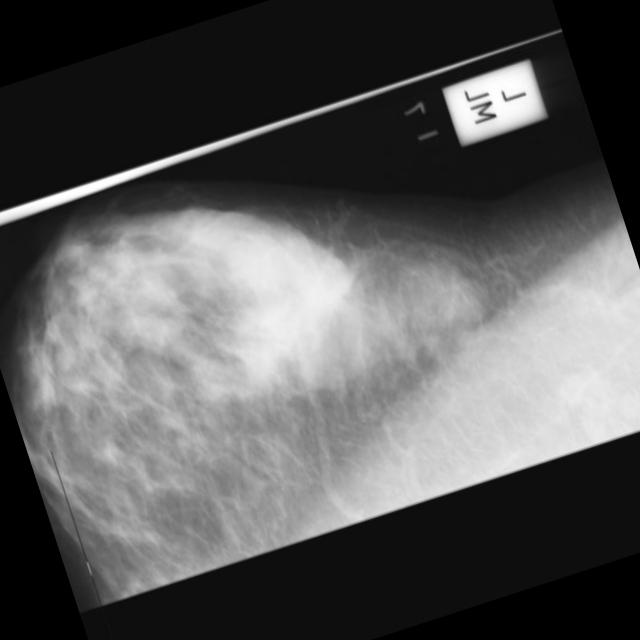ARCH: (230, 194, 414, 378)
